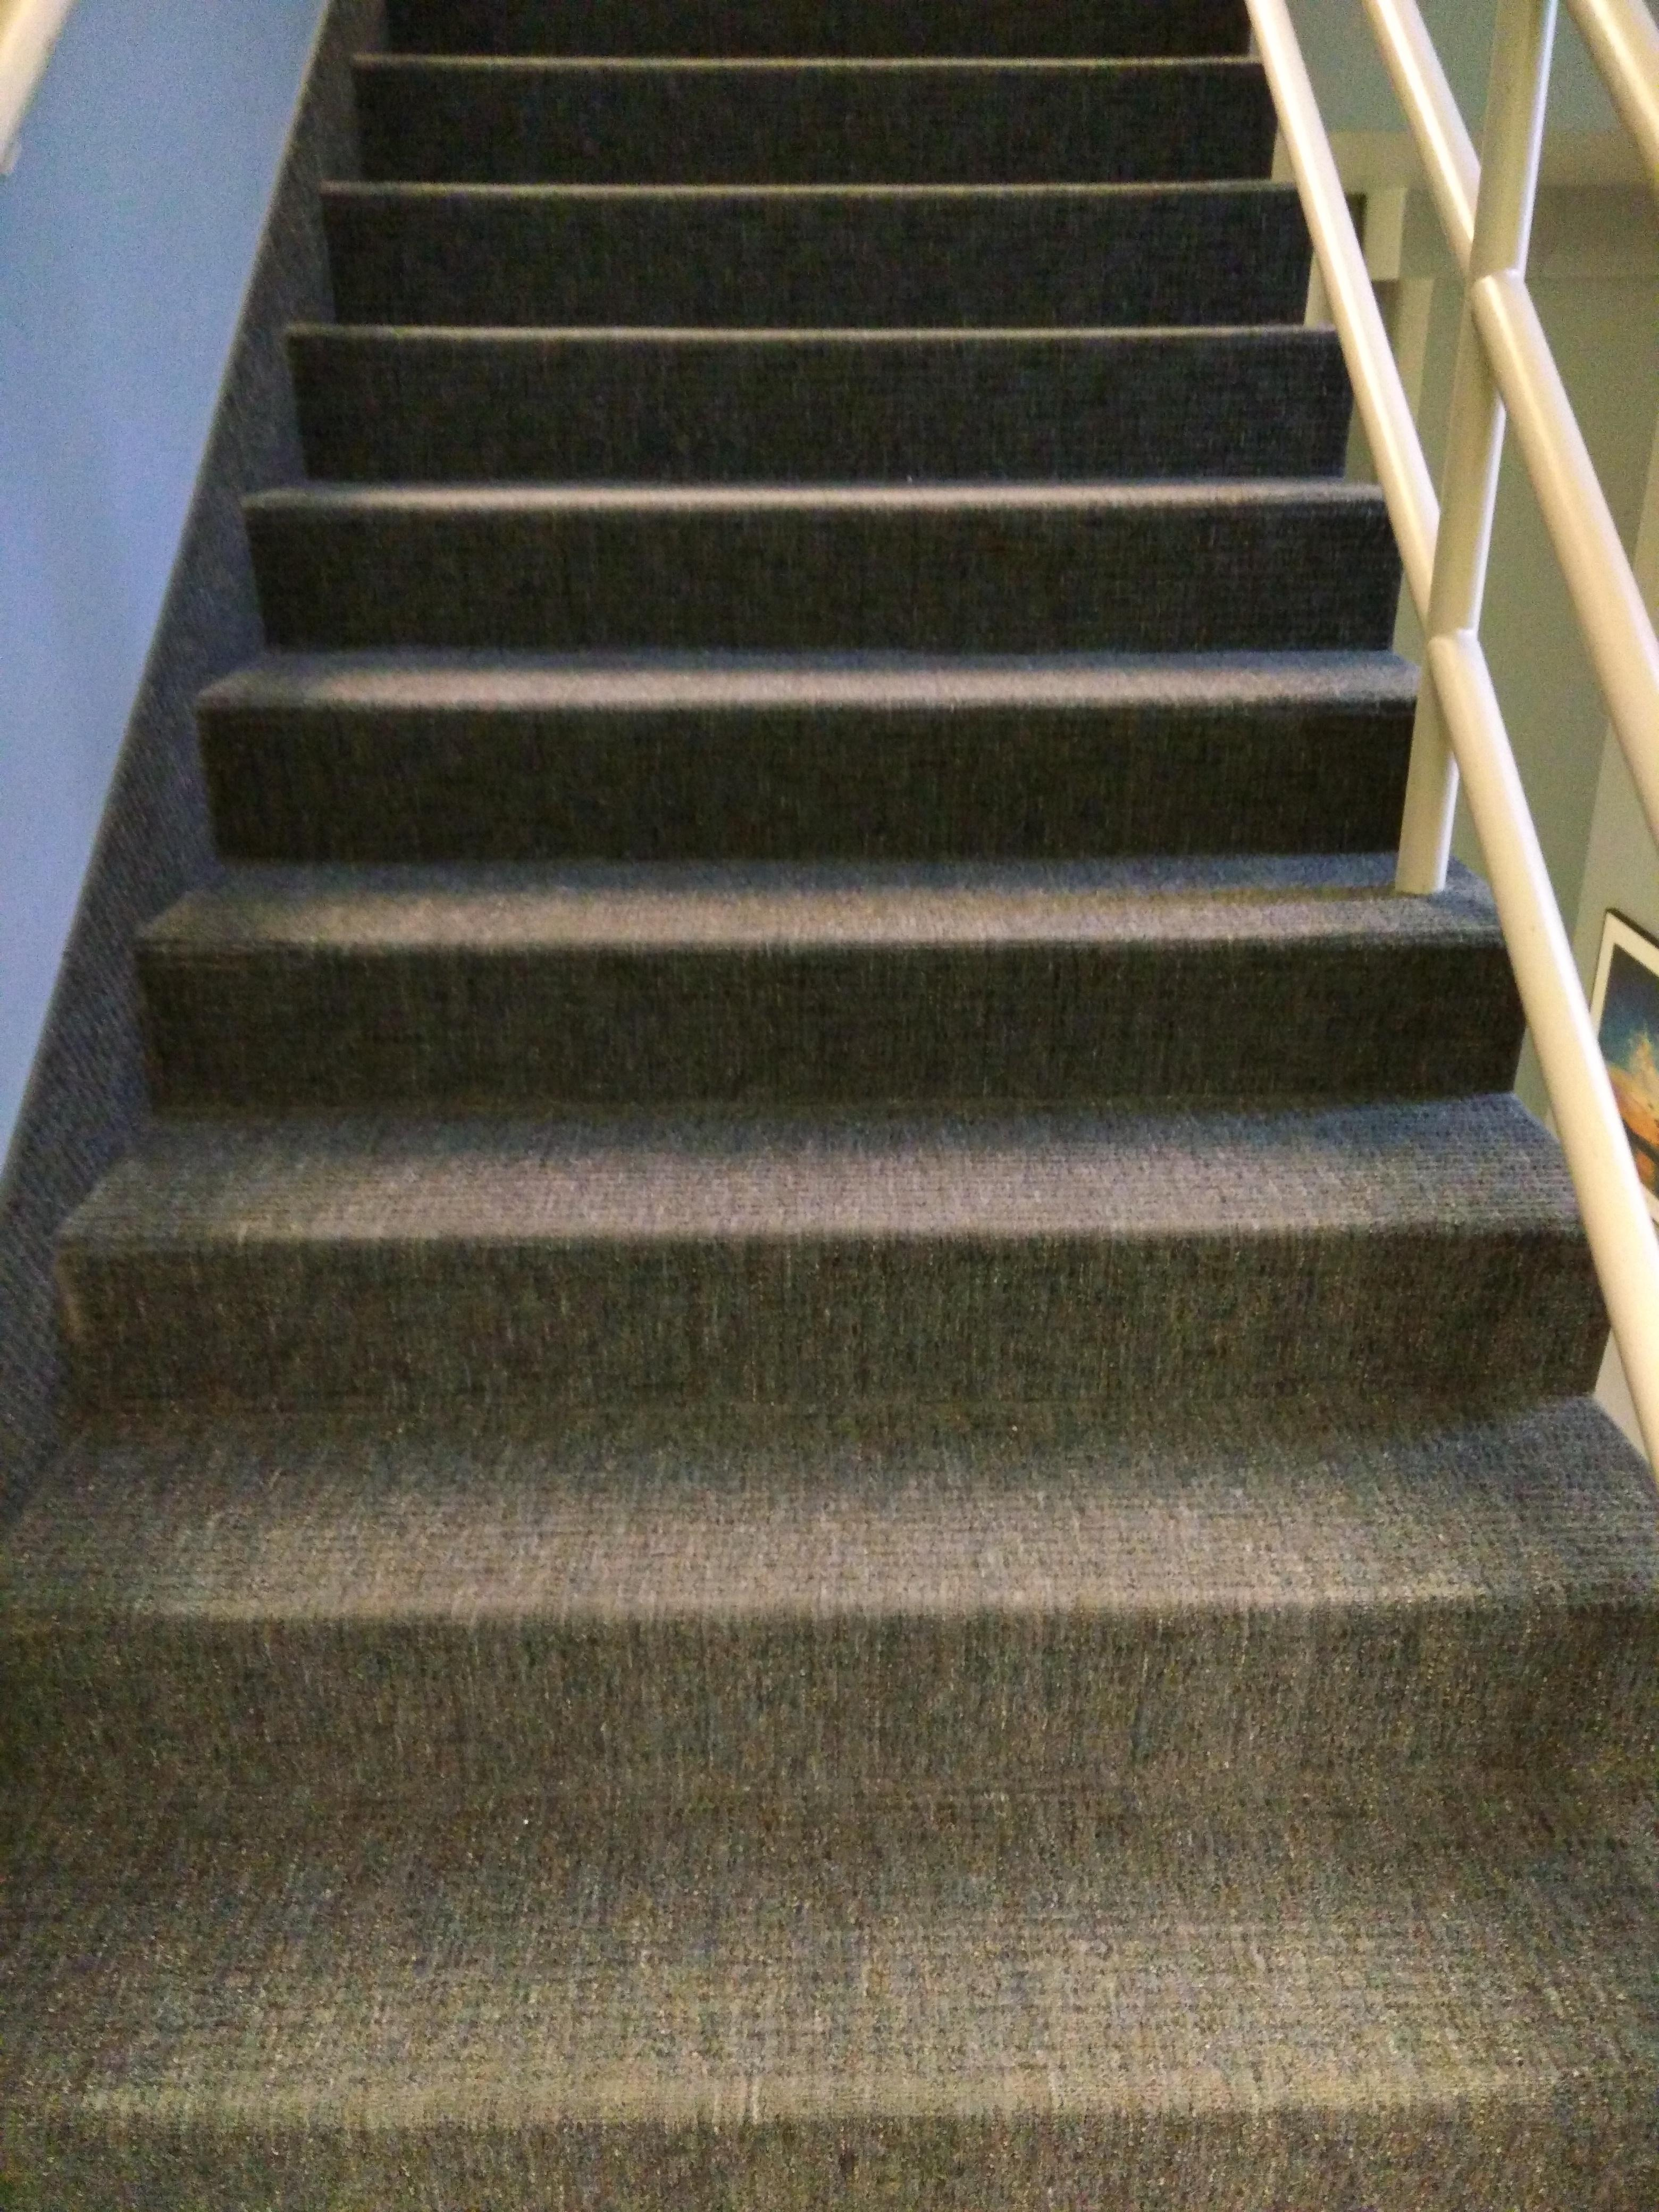stairs_up: (256, 35, 1499, 2139)
